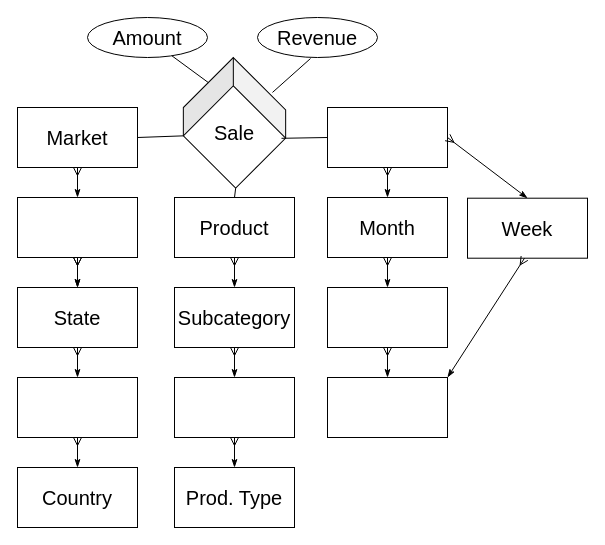
The diagram is 605 pixels wide and 545 high, and some of its shapes have lost their labels. The shapes that lost their labels are listed below. From the top down, each one's centre as x and y in pixels, then its label:
point (387, 137): Date
point (77, 227): City
point (387, 317): Quarter
point (77, 407): Region
point (234, 407): Category
point (387, 407): Year
